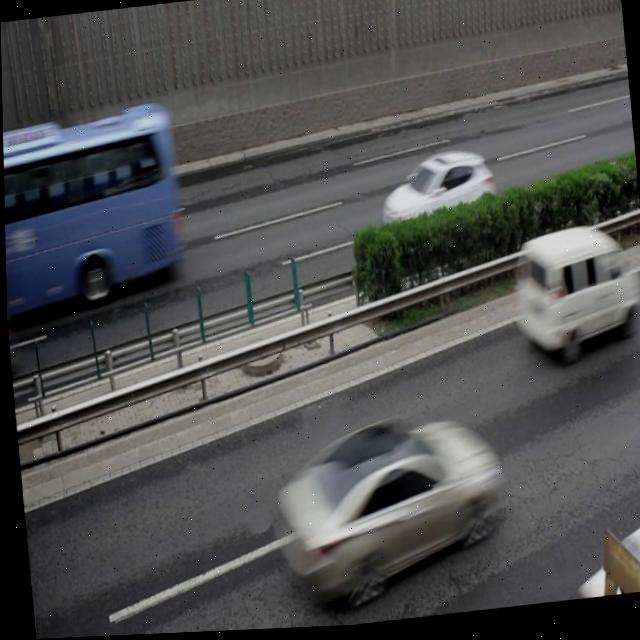car: (272, 407, 506, 613), (374, 147, 498, 258), (568, 509, 640, 603)
truck: (506, 223, 640, 362)
van: (2, 107, 183, 313)
